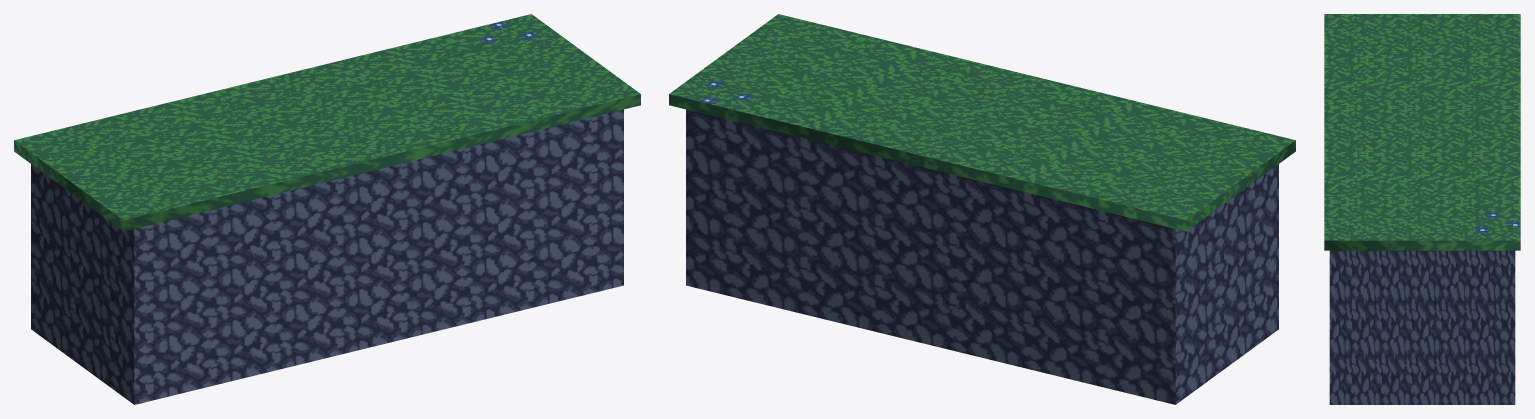
The model's file is BlocoDeTerra.fbx.
3 views of the same model, side by side, from view 1: azimuth 30°, elevation 25°; view 2: azimuth 150°, elevation 25°; view 3: azimuth 270°, elevation 25° (orthographic). The views are drawn at different scales.
Parts seen in each view (by area): view 1: Chao2Grande.001; view 2: Chao2Grande.001; view 3: Chao2Grande.001.
Part boxes in pixels (x1,y1,x2,y2): Chao2Grande.001: (14,14,640,404); Chao2Grande.001: (669,14,1295,404); Chao2Grande.001: (1324,14,1520,404).
Bounding box in the file's own units: 1802 × 660 × 633.
